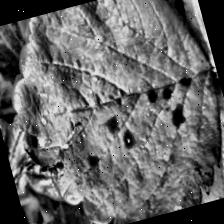Leaf Spot: (0, 0, 224, 224), (145, 69, 224, 210), (28, 157, 168, 224), (141, 0, 220, 97), (0, 8, 83, 97)
